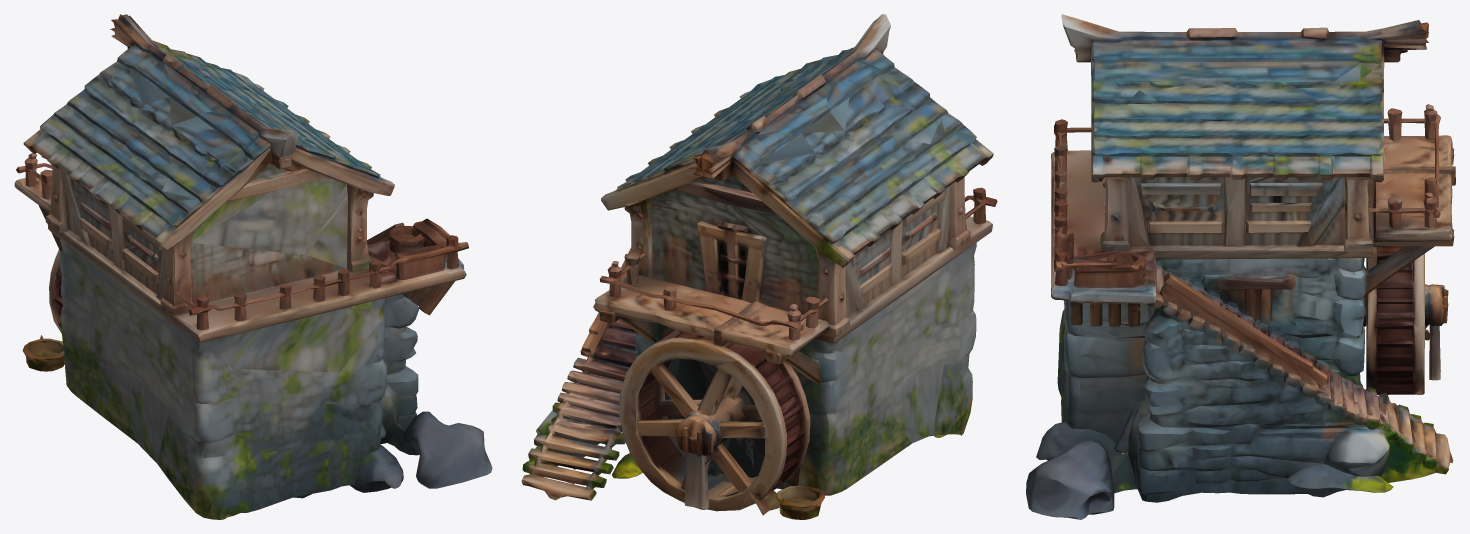
The model's file is windmill.glb.
3 views of the same model, side by side, from view 1: azimuth 30°, elevation 25°; view 2: azimuth 150°, elevation 25°; view 3: azimuth 270°, elevation 25° (orthographic). The views are drawn at different scales.
Visible parts, largest first — view 1: mesh; view 2: mesh; view 3: mesh.
Part boxes in pixels (left/top/right/bottom): mesh: left=14, top=14, right=492, bottom=519; mesh: left=521, top=14, right=997, bottom=519; mesh: left=1026, top=14, right=1455, bottom=519.
Bounding box in the file's own units: 0.8852 × 1.01 × 0.9773.
1 material, 1 textured.
